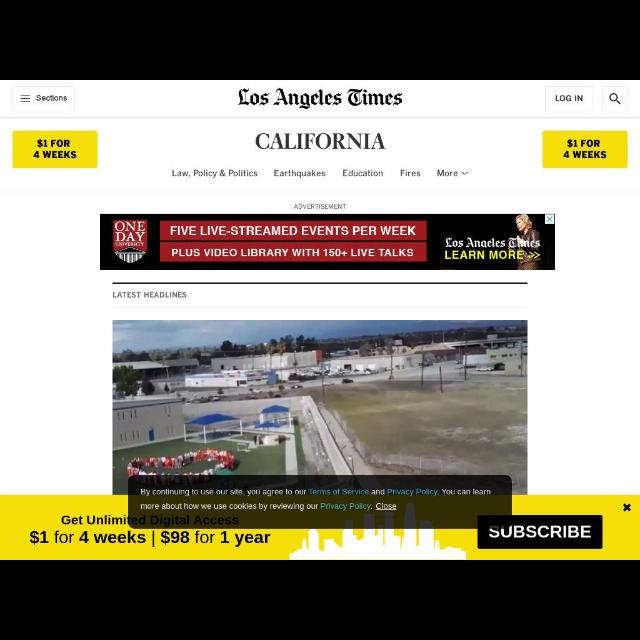button: (603, 87, 627, 111)
icon: (610, 94, 620, 105), (20, 96, 30, 102), (462, 172, 468, 174)
iframe: (1, 495, 640, 559), (100, 214, 554, 270)
image: (113, 320, 527, 494)
spinner: (438, 170, 468, 177)
text: (238, 88, 402, 110), (141, 488, 491, 497), (141, 503, 397, 511), (255, 134, 385, 148), (172, 170, 258, 178), (114, 292, 186, 298), (275, 170, 325, 178), (294, 204, 346, 210), (343, 170, 382, 177), (568, 139, 600, 147), (564, 152, 606, 158), (34, 152, 76, 158), (39, 139, 70, 147), (556, 95, 582, 101), (400, 170, 420, 177), (438, 170, 458, 177), (36, 96, 68, 100)
textbutton: (543, 132, 627, 168), (13, 131, 97, 167), (14, 87, 74, 111), (545, 87, 593, 111)
toolbar: (1, 80, 640, 192)
